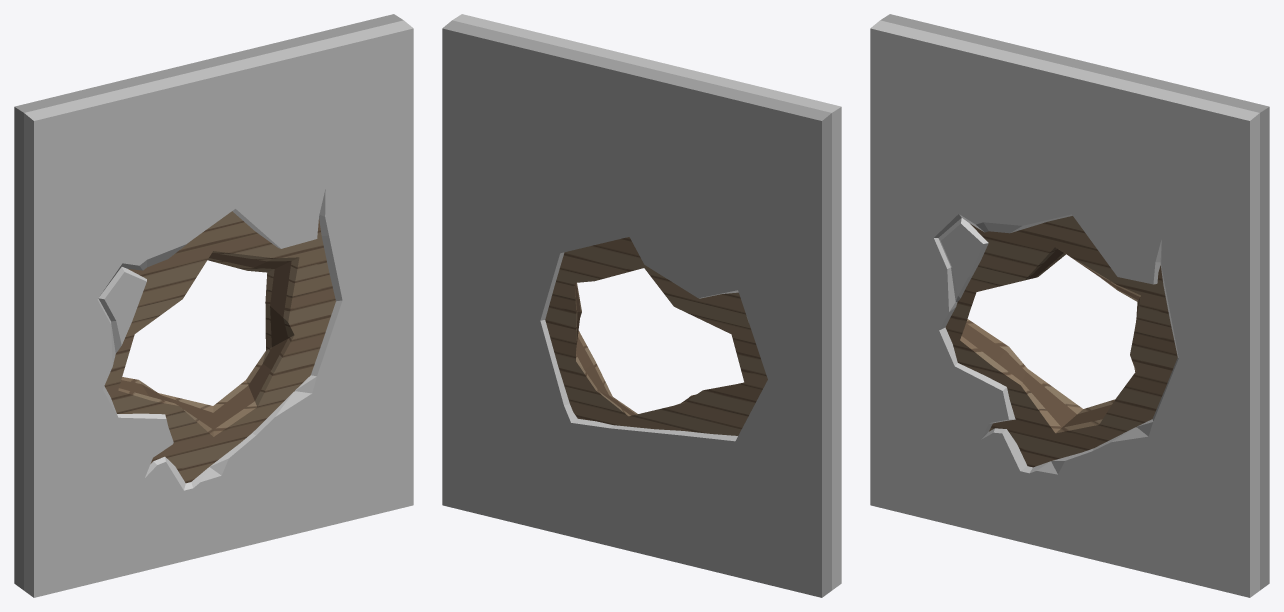
File: SM_Bld_Wall_Hole_02.fbx
3 views of the same model, side by side, from view 1: azimuth 30°, elevation 25°; view 2: azimuth 150°, elevation 25°; view 3: azimuth 330°, elevation 25° (orthographic).
Parts seen in each view (by area): view 1: SM_Bld_Wall_Hole_02; view 2: SM_Bld_Wall_Hole_02; view 3: SM_Bld_Wall_Hole_02.
Boxes of the visible parts, left/top/right/bottom form: SM_Bld_Wall_Hole_02: left=14, top=14, right=413, bottom=597; SM_Bld_Wall_Hole_02: left=442, top=14, right=841, bottom=597; SM_Bld_Wall_Hole_02: left=870, top=14, right=1269, bottom=597.
Size of the model in its own units: 250 by 301 by 22.5.
